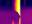Hotspot: (15, 0, 21, 15)
